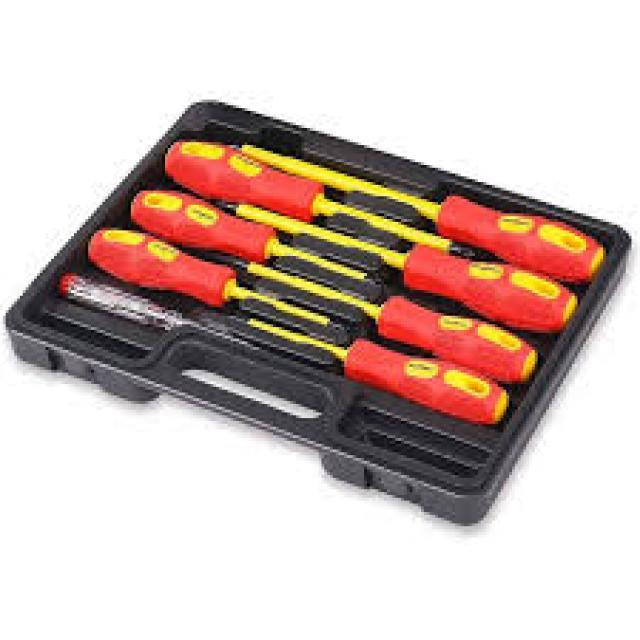screwdriver: (224, 136, 612, 278), (223, 199, 582, 336), (162, 136, 478, 268), (228, 256, 540, 384), (225, 308, 515, 426), (88, 216, 347, 336), (124, 185, 382, 296)
